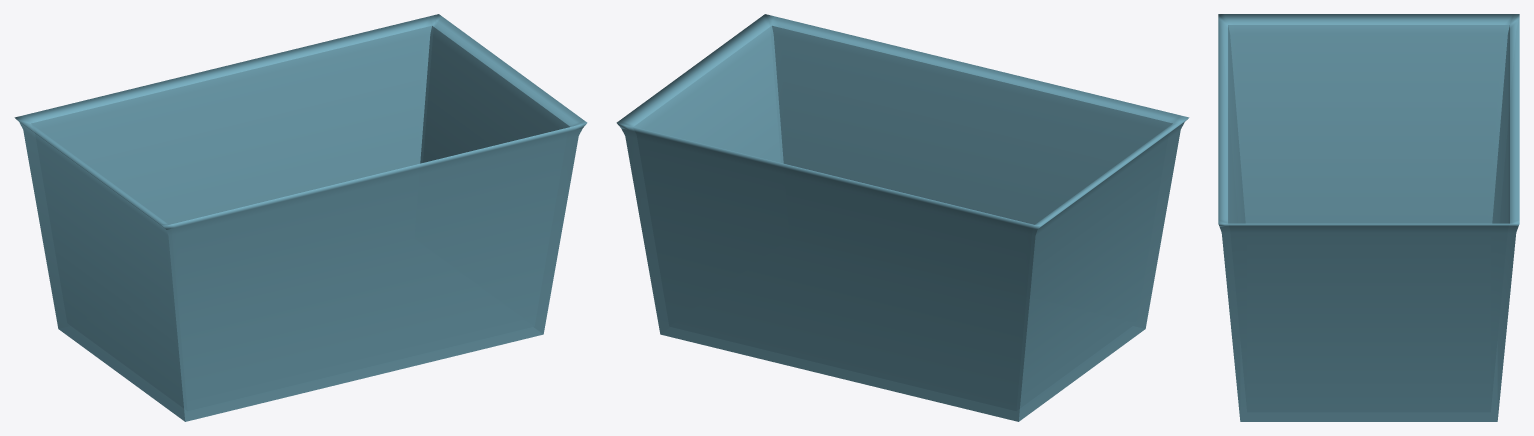
Rendered from water_tank.fbx.
3 views of the same model, side by side, from view 1: azimuth 30°, elevation 25°; view 2: azimuth 150°, elevation 25°; view 3: azimuth 270°, elevation 25° (orthographic).
Visible parts, largest first — view 1: Box002; view 2: Box002; view 3: Box002.
Boxes of the visible parts, left/top/right/bottom form: Box002: left=14, top=14, right=587, bottom=421; Box002: left=616, top=14, right=1189, bottom=421; Box002: left=1218, top=14, right=1519, bottom=421.
Bounding box in the file's own units: 122 × 58.24 × 74.2.
